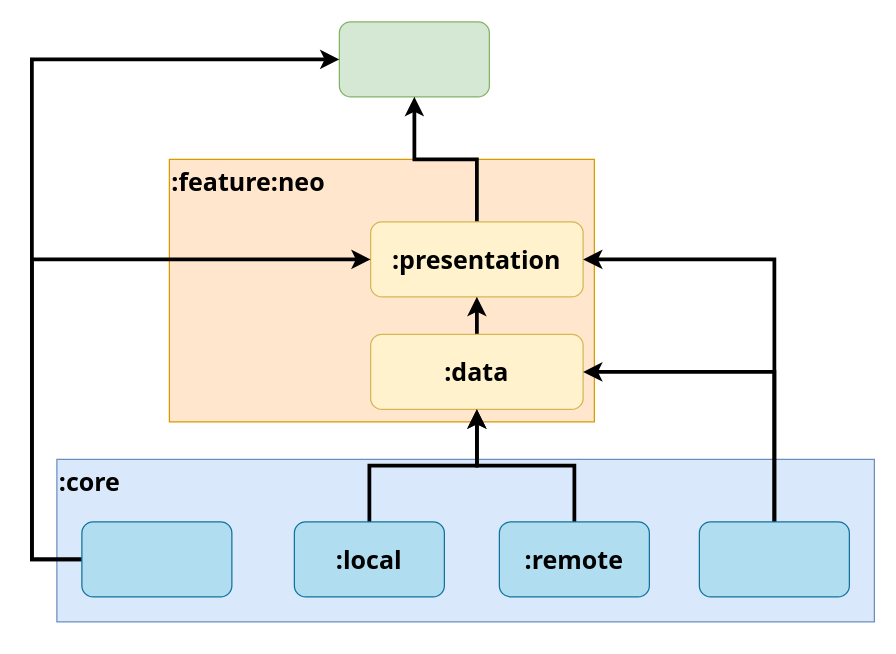
This 896x654 diagram has some shape labels left out. The centre of each missing label's shape, as x and y in pixels:
:app: (413,59)
:common: (773,559)
:design: (156,559)
